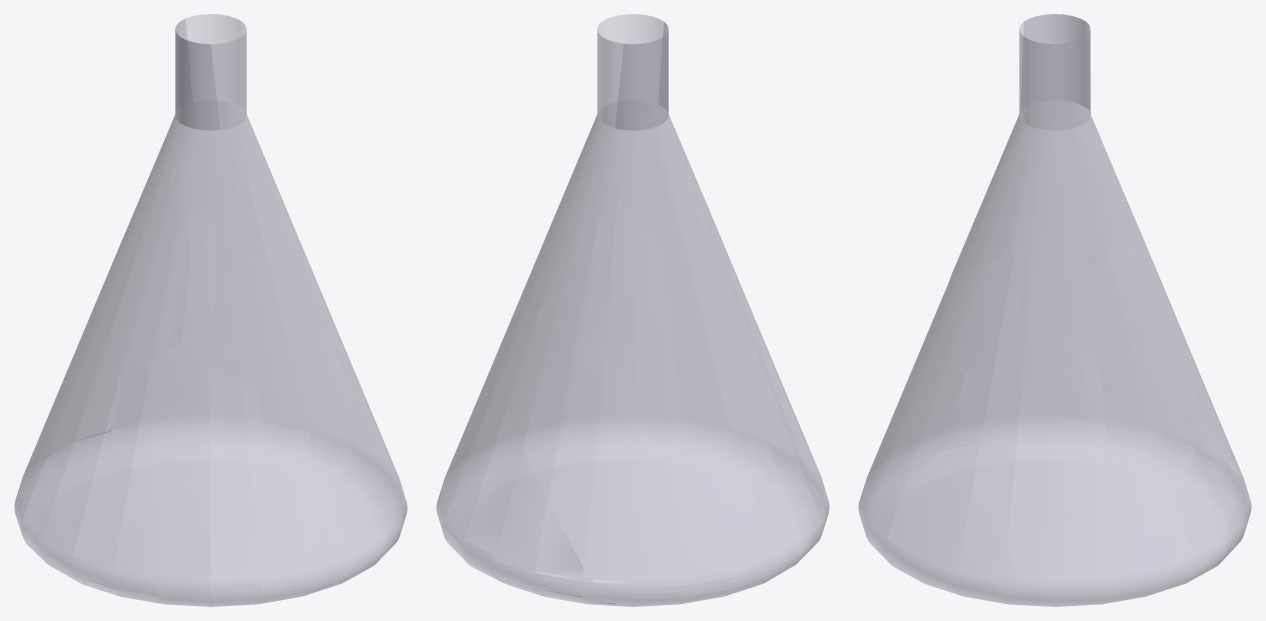
Rendered from erlenmeyer2_cut.fbx.
The picture shows the model from 3 angles, left to right: view 1: azimuth 30°, elevation 25°; view 2: azimuth 150°, elevation 25°; view 3: azimuth 270°, elevation 25°; orthographic projection.
Parts seen in each view (by area): view 1: Erlenmeyer.002, Erlenmeyer.001, Erlenmeyer.010, Erlenmeyer.012, Erlenmeyer.011, Erlenmeyer.008, Erlenmeyer.006, Erlenmeyer.003, Erlenmeyer.005, Erlenmeyer.007, Erlenmeyer.004, Erlenmeyer.013; view 2: Erlenmeyer.002, Erlenmeyer.001, Erlenmeyer.011, Erlenmeyer.010, Erlenmeyer.005, Erlenmeyer.012, Erlenmeyer.007, Erlenmeyer.006, Erlenmeyer.003, Erlenmeyer.008, Erlenmeyer.013; view 3: Erlenmeyer.001, Erlenmeyer.002, Erlenmeyer.010, Erlenmeyer.008, Erlenmeyer.011, Erlenmeyer.005, Erlenmeyer.006, Erlenmeyer.012, Erlenmeyer.007, Erlenmeyer.003, Erlenmeyer.004, Erlenmeyer.013.
Boxes of the visible parts, x1,y1,x2,y2 form: Erlenmeyer.002: [14, 171, 261, 598]; Erlenmeyer.001: [14, 14, 405, 601]; Erlenmeyer.010: [21, 300, 395, 587]; Erlenmeyer.012: [14, 350, 378, 592]; Erlenmeyer.011: [24, 349, 378, 602]; Erlenmeyer.008: [107, 156, 384, 600]; Erlenmeyer.006: [20, 444, 300, 568]; Erlenmeyer.003: [224, 231, 336, 431]; Erlenmeyer.005: [211, 416, 407, 606]; Erlenmeyer.007: [115, 329, 372, 606]; Erlenmeyer.004: [248, 180, 310, 331]; Erlenmeyer.013: [144, 151, 350, 383]; Erlenmeyer.002: [443, 213, 829, 604]; Erlenmeyer.001: [456, 14, 808, 606]; Erlenmeyer.011: [550, 283, 825, 584]; Erlenmeyer.010: [436, 311, 798, 603]; Erlenmeyer.005: [436, 349, 792, 524]; Erlenmeyer.012: [452, 275, 827, 605]; Erlenmeyer.007: [470, 255, 826, 542]; Erlenmeyer.006: [534, 491, 769, 606]; Erlenmeyer.003: [501, 196, 732, 368]; Erlenmeyer.008: [501, 165, 816, 499]; Erlenmeyer.013: [568, 188, 626, 318]; Erlenmeyer.001: [861, 14, 1250, 604]; Erlenmeyer.002: [885, 195, 1251, 563]; Erlenmeyer.010: [859, 397, 1249, 606]; Erlenmeyer.008: [914, 133, 1139, 546]; Erlenmeyer.011: [860, 357, 1104, 593]; Erlenmeyer.005: [858, 451, 1193, 606]; Erlenmeyer.006: [971, 439, 1239, 577]; Erlenmeyer.012: [864, 278, 1225, 605]; Erlenmeyer.007: [865, 269, 1098, 606]; Erlenmeyer.003: [917, 255, 1148, 398]; Erlenmeyer.004: [1067, 234, 1128, 439]; Erlenmeyer.013: [958, 159, 1139, 421].
Bounding box in the file's own units: 17.52 × 24.78 × 17.52.
